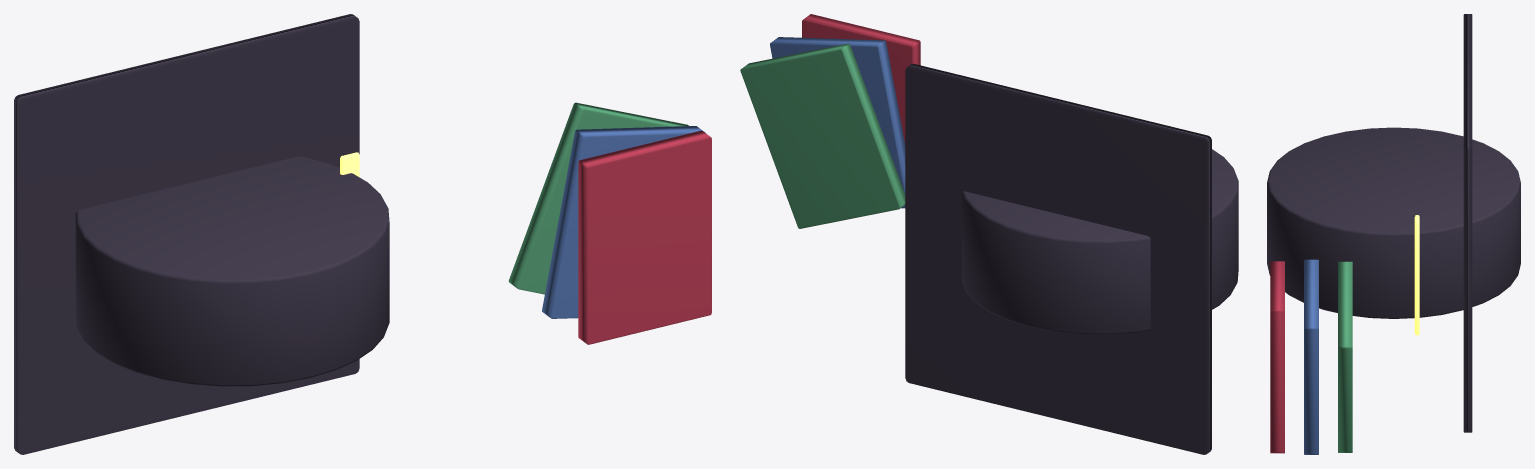
Rendered from academy.glb.
The picture shows the model from 3 angles, left to right: view 1: azimuth 30°, elevation 25°; view 2: azimuth 150°, elevation 25°; view 3: azimuth 270°, elevation 25°; orthographic projection. The views are drawn at different scales.
Visible parts, largest first — view 1: Cube, Cylinder, Cube.001, Cube.002, Cube.003; view 2: Cube, Cylinder, Cube.003, Cube.002, Cube.001; view 3: Cylinder, Cube, Cube.002, Cube.001, Cube.003, Cylinder.006.
Part boxes in pixels (box(x1,y1,x2,y2)): Cube: box(14, 14, 359, 454); Cylinder: box(75, 156, 389, 386); Cube.001: box(578, 130, 711, 344); Cube.002: box(542, 126, 705, 318); Cube.003: box(508, 102, 688, 294); Cube: box(905, 63, 1211, 454); Cylinder: box(962, 149, 1238, 334); Cube.003: box(740, 43, 905, 228); Cube.002: box(770, 37, 905, 208); Cube.001: box(802, 14, 920, 143); Cylinder: box(1267, 127, 1520, 318); Cube: box(1463, 14, 1472, 432); Cube.002: box(1304, 259, 1318, 454); Cube.001: box(1270, 261, 1284, 453); Cube.003: box(1338, 261, 1352, 452); Cylinder.006: box(1414, 220, 1419, 335).
Size of the model in its own units: 2.65 by 1.5 by 1.2.
